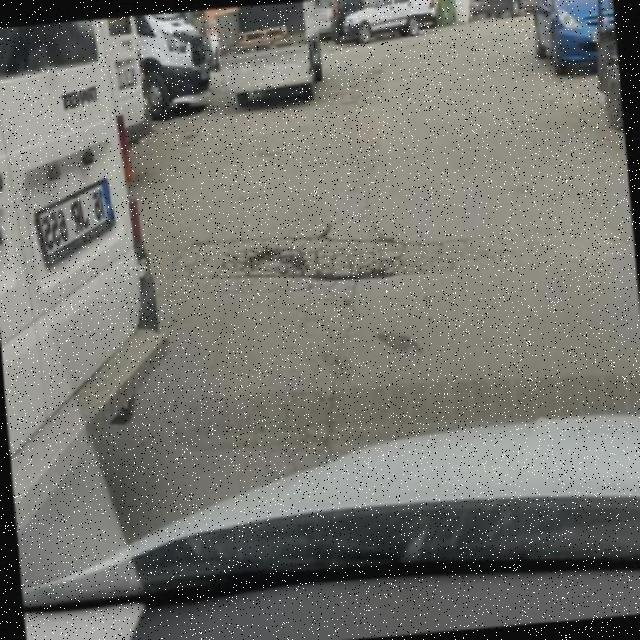Pothole: (242, 249, 392, 280)
